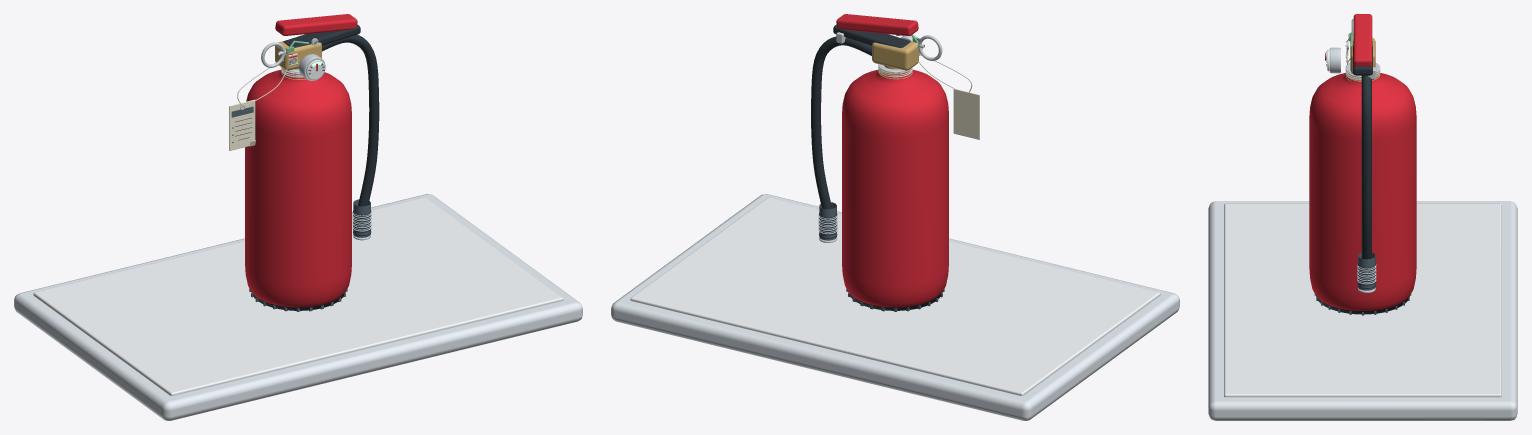
File: fire.glb
The picture shows the model from 3 angles, left to right: view 1: azimuth 30°, elevation 25°; view 2: azimuth 150°, elevation 25°; view 3: azimuth 270°, elevation 25°; orthographic projection.
Visible parts, largest first — view 1: fire; view 2: fire; view 3: fire.
Boxes of the visible parts, box(x1,y1,x2,y2) form: fire: box(14, 14, 582, 420); fire: box(611, 14, 1179, 420); fire: box(1208, 14, 1517, 420).
Size of the model in its own units: 0.77 by 0.5218 by 0.49.
